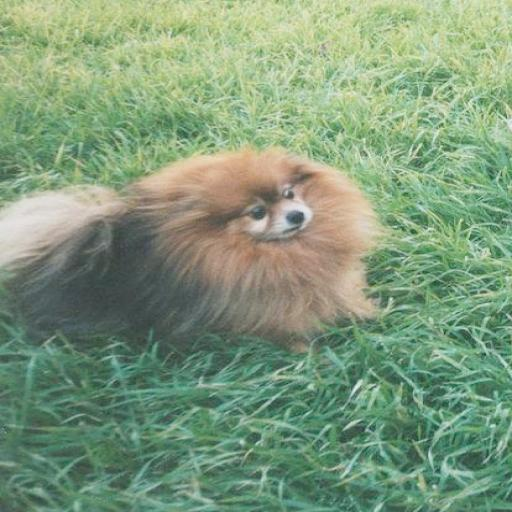dog_face: (183, 154, 343, 257)
